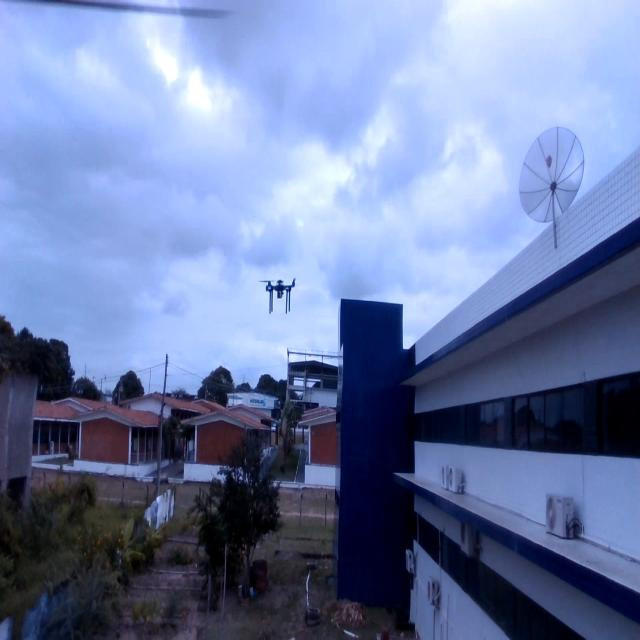-uav-: (252, 266, 308, 334)
